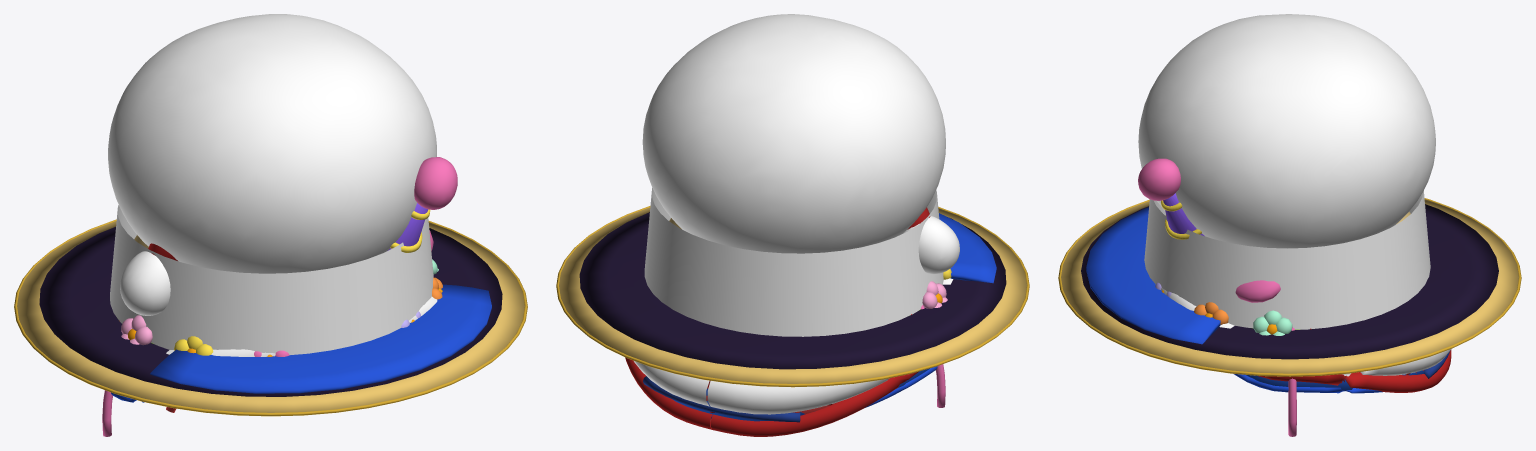
Rendered from props-h.glb.
3 renders of one model, left to right at view 1: azimuth 30°, elevation 25°; view 2: azimuth 150°, elevation 25°; view 3: azimuth 270°, elevation 25°, orthographic. The views are drawn at different scales.
Visible parts, largest first — view 1: h-chef, h-straw, h-cap, h-witch, h-santa, h-party, h-flowers; view 2: h-chef, h-witch, h-straw, h-santa, h-beanie, h-cap, h-flowers; view 3: h-chef, h-witch, h-straw, h-cap, h-party, h-beanie, h-flowers, h-santa, h-bow, h-bunny.
Part boxes in pixels (x1,y1,x2,y2): h-chef: [108, 14, 436, 354]; h-straw: [14, 219, 527, 416]; h-cap: [111, 284, 491, 402]; h-witch: [39, 227, 502, 396]; h-santa: [120, 243, 437, 356]; h-party: [387, 157, 457, 252]; h-flowers: [121, 259, 442, 356]; h-chef: [642, 14, 945, 336]; h-witch: [579, 212, 1006, 369]; h-straw: [556, 206, 1029, 387]; h-santa: [634, 207, 959, 414]; h-beanie: [625, 314, 918, 436]; h-cap: [643, 213, 996, 422]; h-flowers: [919, 269, 951, 310]; h-chef: [1138, 14, 1435, 329]; h-witch: [1081, 204, 1498, 359]; h-straw: [1058, 198, 1521, 376]; h-cap: [1086, 207, 1449, 393]; h-party: [1138, 158, 1204, 239]; h-beanie: [1258, 328, 1451, 392]; h-flowers: [1155, 282, 1299, 335]; h-santa: [1161, 288, 1451, 376]; h-bow: [1235, 280, 1280, 302]; h-bunny: [1288, 327, 1296, 436].
Bounding box in the file's own units: 0.665 × 0.5251 × 0.665.
